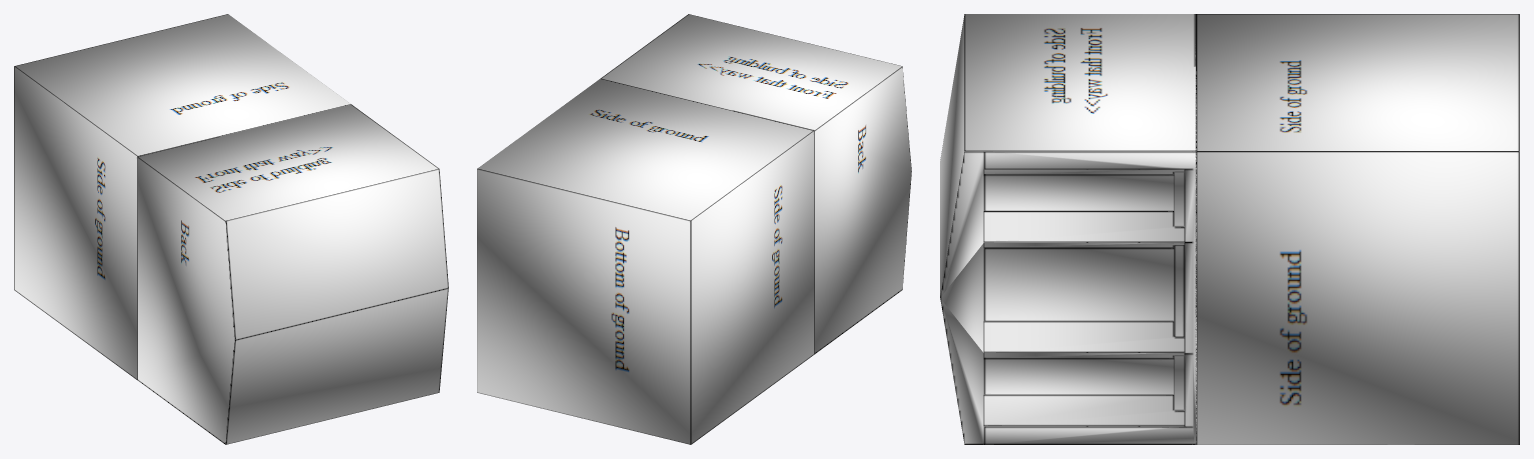
The model's file is DistrictHall.fbx.
3 views of the same model, side by side, from view 1: azimuth 30°, elevation 25°; view 2: azimuth 150°, elevation 25°; view 3: azimuth 270°, elevation 25° (orthographic). The views are drawn at different scales.
Parts seen in each view (by area): view 1: cube1; view 2: cube1; view 3: cube1.
Boxes of the visible parts, <box> form: cube1: <box>14,14,448,444</box>; cube1: <box>477,14,911,444</box>; cube1: <box>940,14,1519,444</box>.
Size of the model in its own units: 48 by 48 by 85.79.
1 material, 1 textured.
